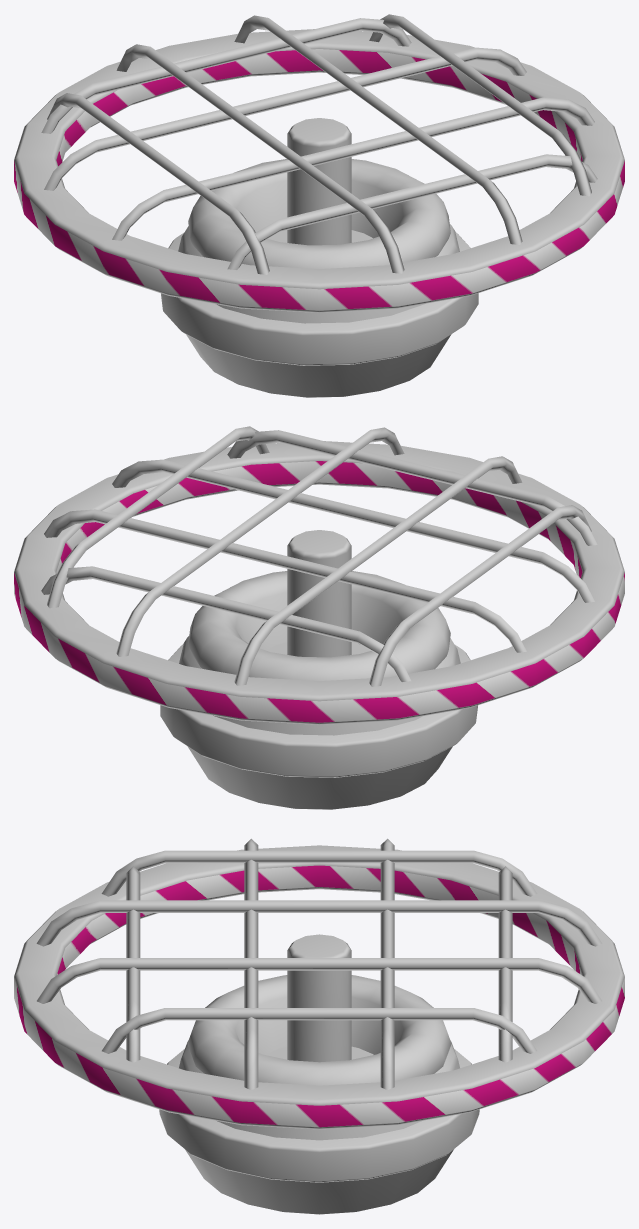
File: propeller_trampoline_1_001.fbx
The picture shows the model from 3 angles, top to bottom: view 1: azimuth 30°, elevation 25°; view 2: azimuth 150°, elevation 25°; view 3: azimuth 270°, elevation 25°; orthographic projection.
Visible parts, largest first — view 1: propeller_trampoline_1_001; view 2: propeller_trampoline_1_001; view 3: propeller_trampoline_1_001.
Part boxes in pixels (x1,y1,x2,y2): propeller_trampoline_1_001: [14, 14, 624, 397]; propeller_trampoline_1_001: [14, 426, 624, 809]; propeller_trampoline_1_001: [14, 838, 624, 1214].
Bounding box in the file's own units: 506 × 506 × 216.
